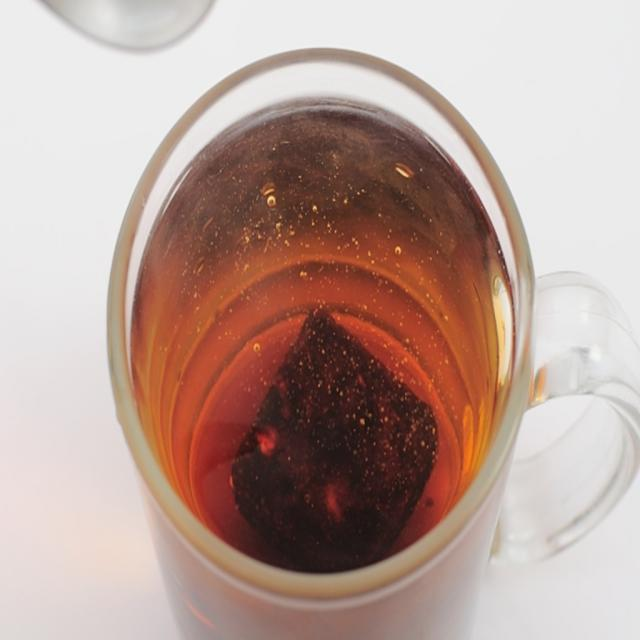Tea: (131, 103, 520, 639)
